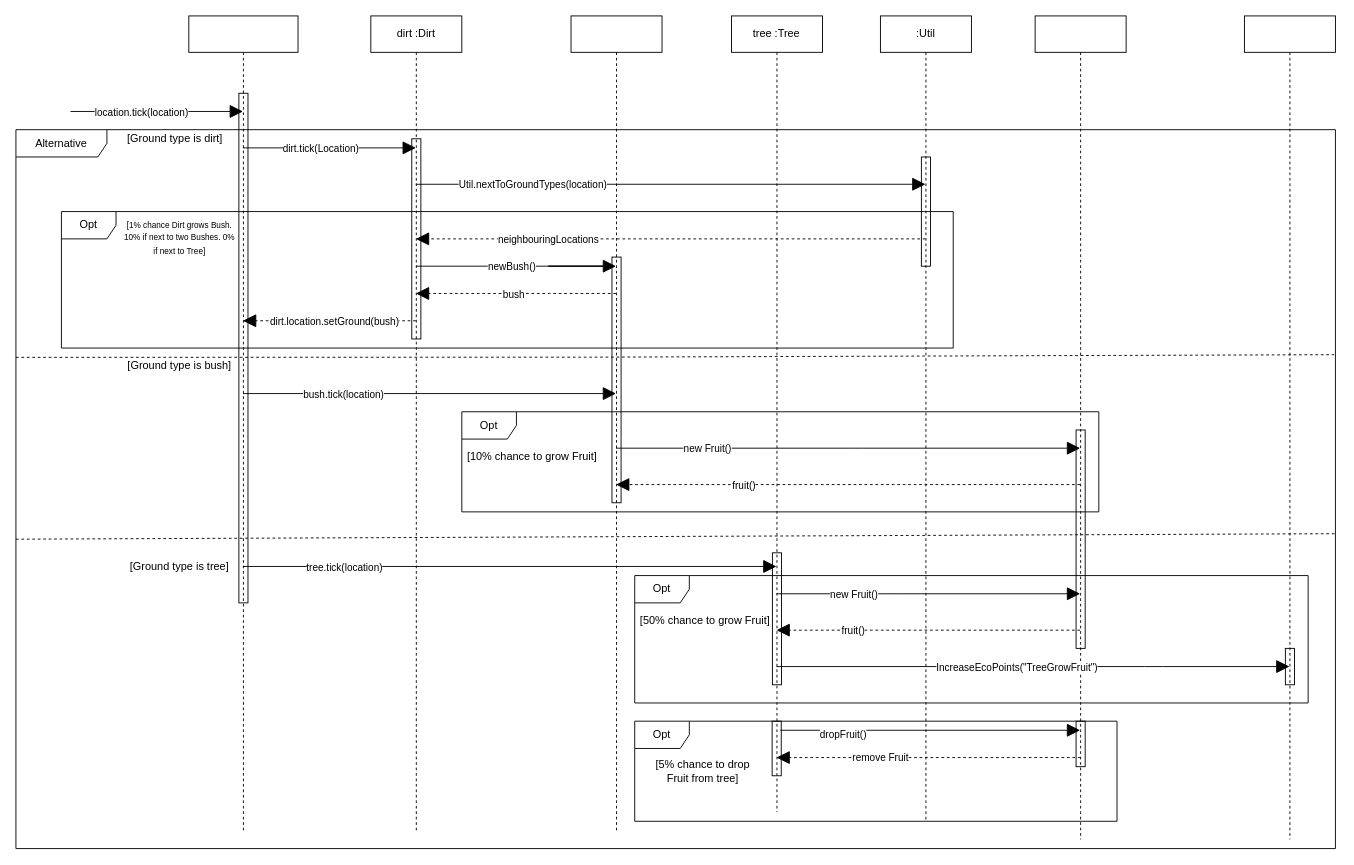
This 1354x865 diagram has some shape labels left out. The box of each missing label's shape, as (x1, y1, x2, y2) in pixels:
bush :Bush: (570, 15, 662, 830)
ecoPoints: EcoPoints: (1244, 15, 1335, 839)
fruit: Fruit: (1034, 15, 1126, 839)
location: Location: (188, 15, 298, 830)
